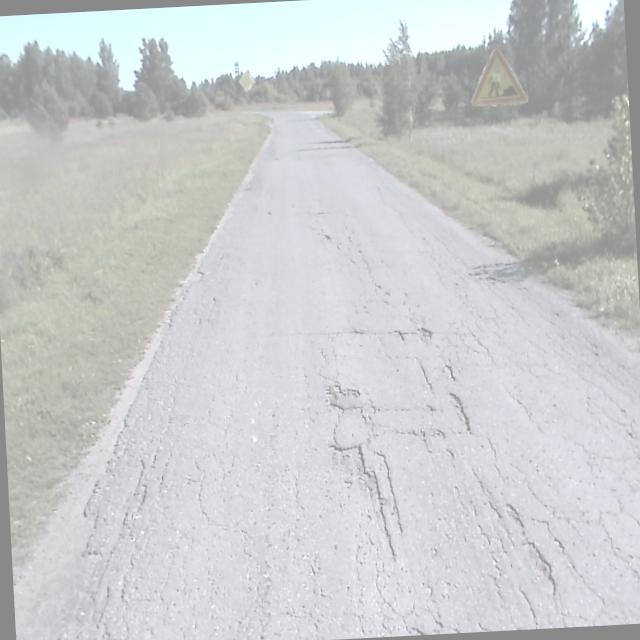road: (33, 111, 640, 640)
